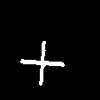single_crochet: (20, 41, 64, 84)
